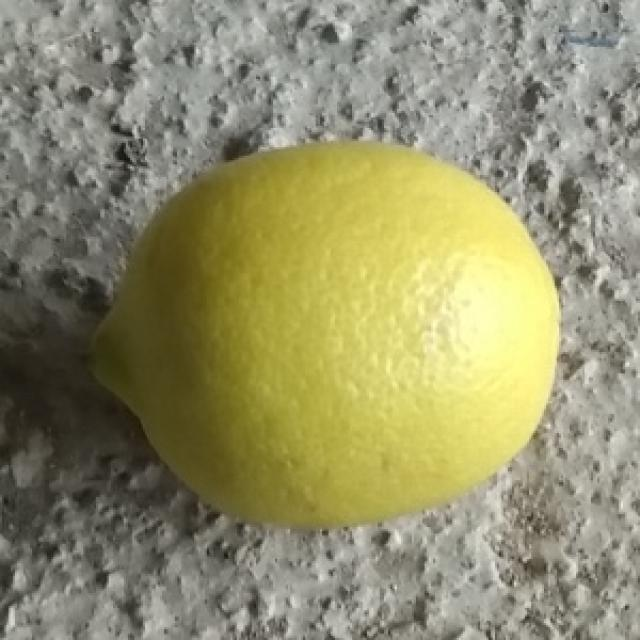Lemon: (87, 137, 565, 530)
